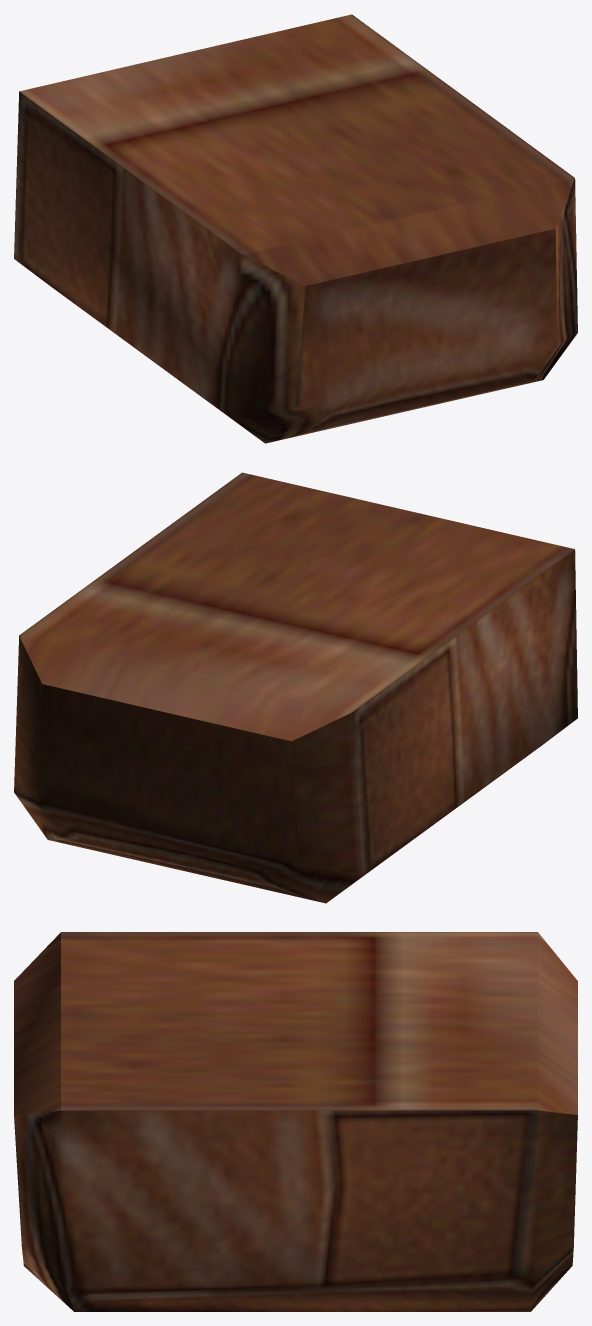
File: bomb-carrier.glb
3 renders of one model, top to bottom at view 1: azimuth 30°, elevation 25°; view 2: azimuth 150°, elevation 25°; view 3: azimuth 270°, elevation 25°, orthographic. The views are drawn at different scales.
Visible parts, largest first — view 1: Bomb equipment; view 2: Bomb equipment; view 3: Bomb equipment.
Part boxes in pixels (left/top/right/bottom): Bomb equipment: left=14, top=14, right=577, bottom=443; Bomb equipment: left=14, top=472, right=577, bottom=903; Bomb equipment: left=14, top=932, right=577, bottom=1311.
Bounding box in the file's own units: 10.44 × 5.87 × 13.69.
Materials: 1 (1 with a texture image).
